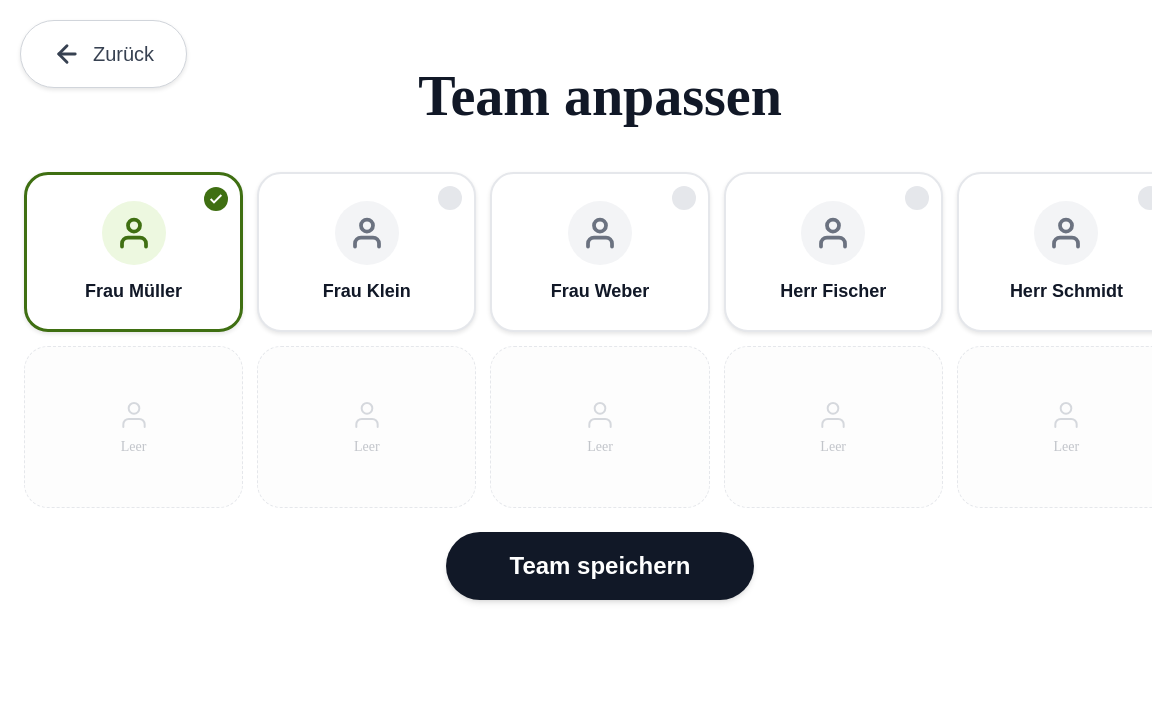
Test case: TeamManagementPage › handles updateSessionSupervisors returning no supervisors field
Click the button "Team speichern". click: (600, 566)
box: [446, 532, 754, 600]
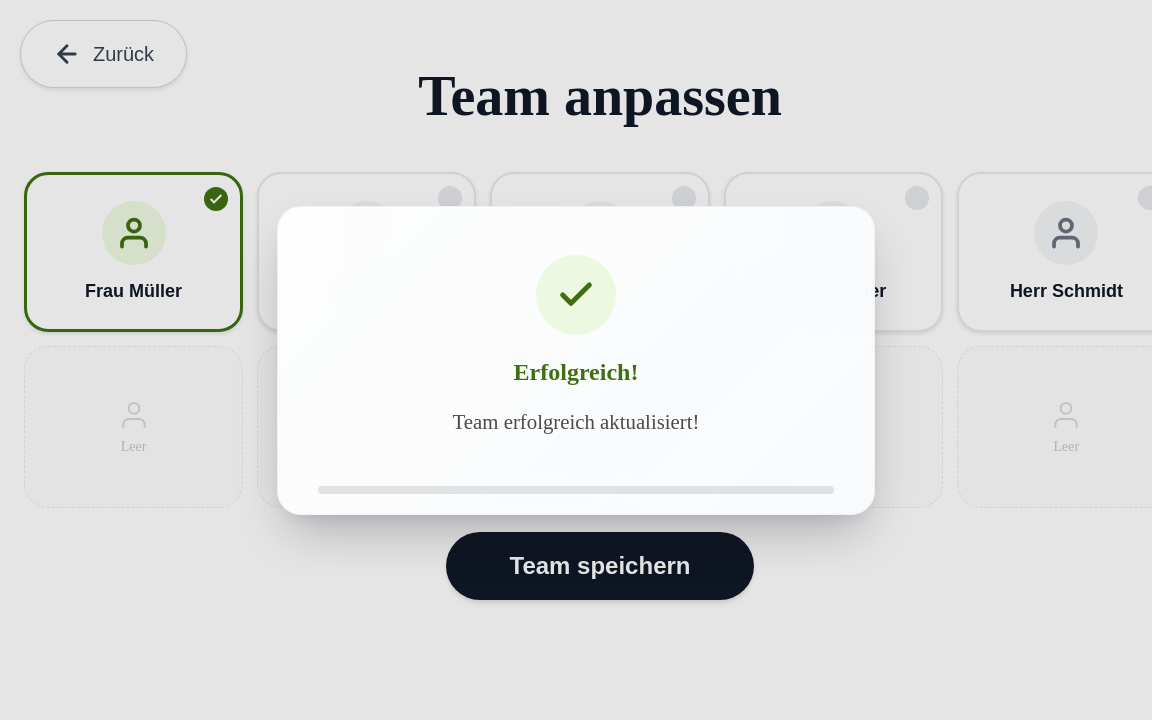
Expected: the text "Team erfolgreich aktualisiert!" is shown, [453, 410, 699, 432]
